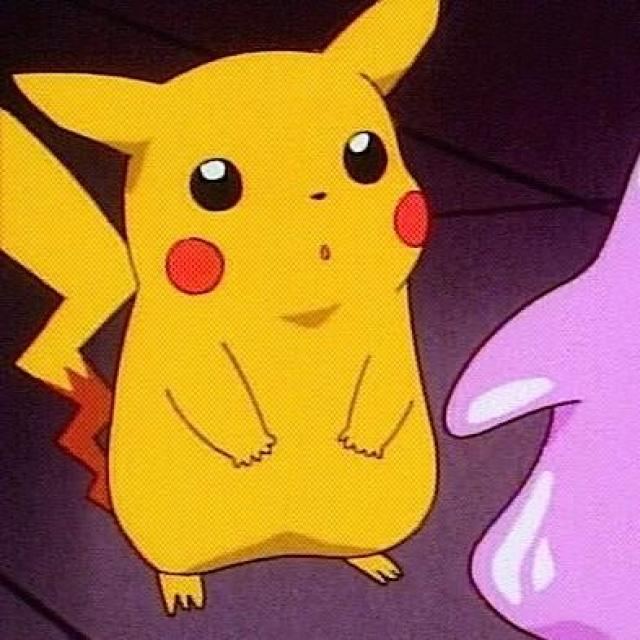pikachu: (0, 0, 440, 611)
